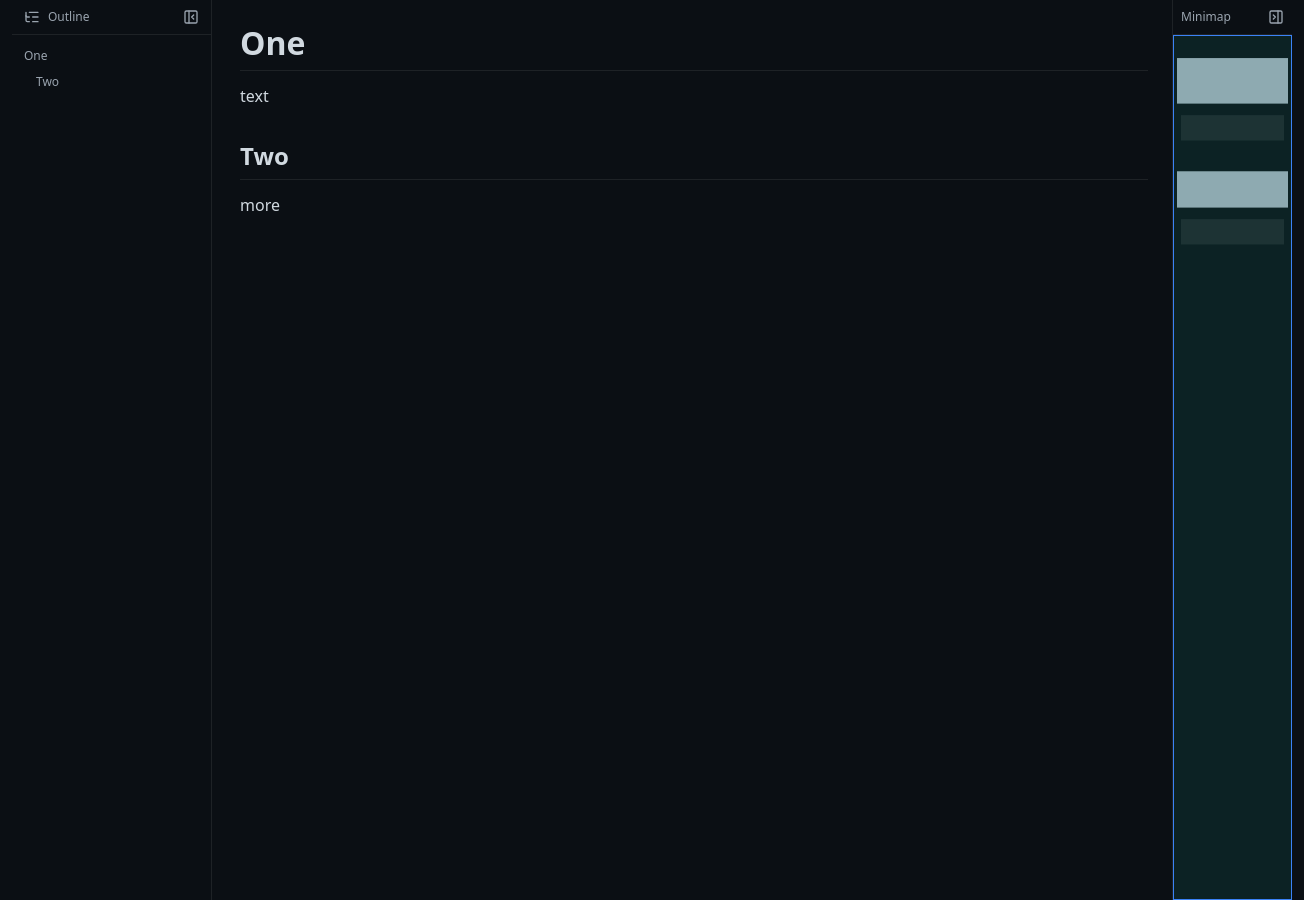
Test: MarkdownViewer pane collapse › moves its own value, and still reports, when uncontrolled
Click the button named "Collapse outline": (191, 17) [183, 9, 199, 25]
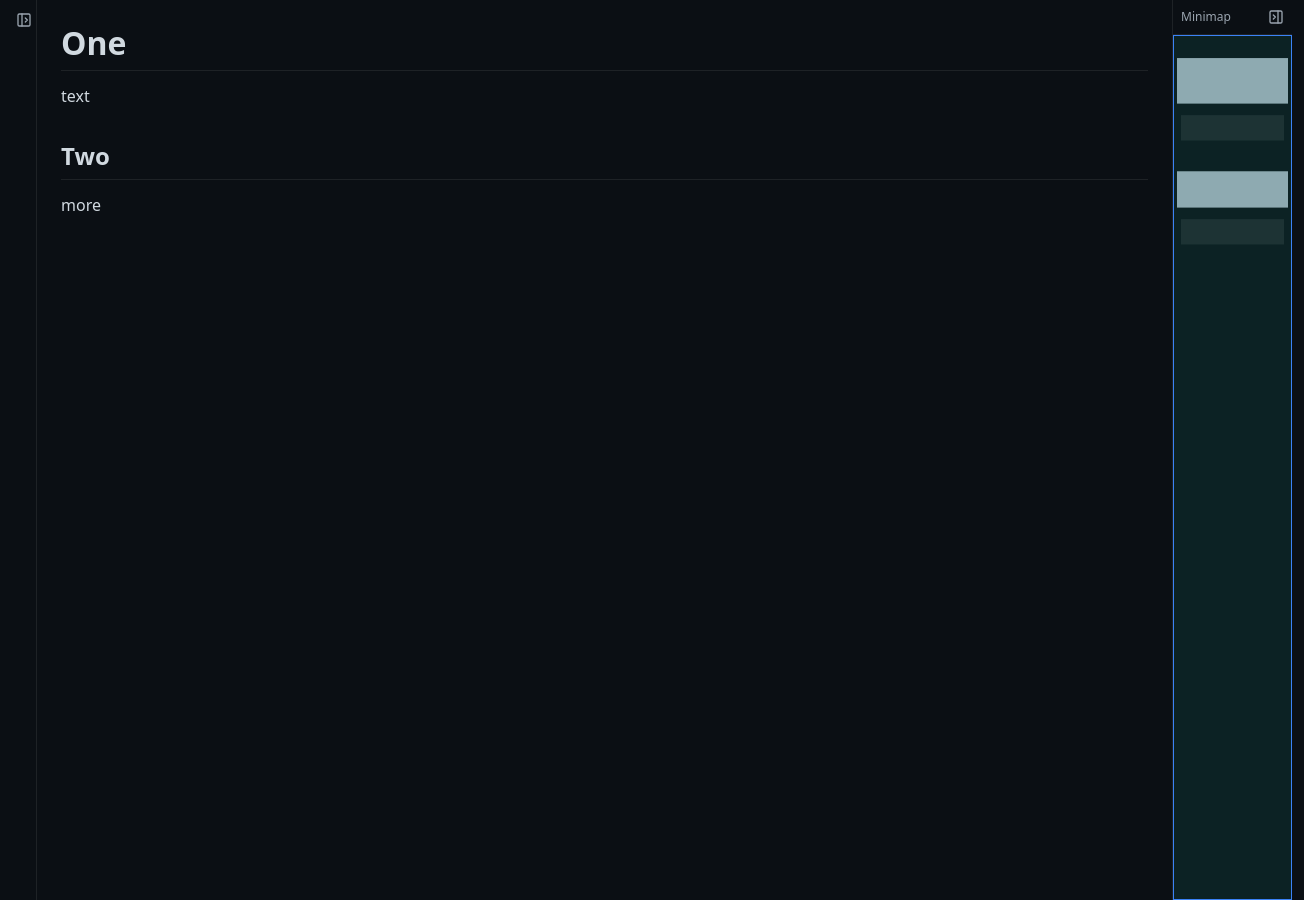
Expected: the button named "Expand outline" is shown, [12, 8, 36, 32]
